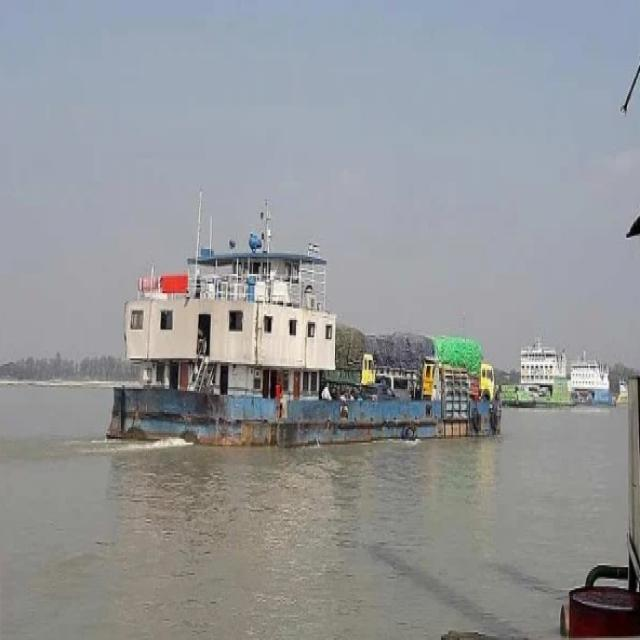cargoship: (74, 189, 508, 456)
